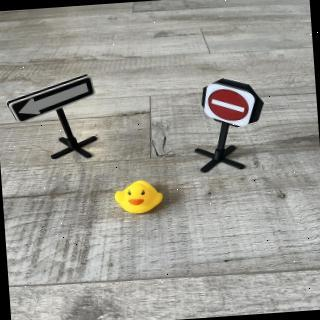duck_regular: (114, 180, 165, 217)
sign_noentry: (201, 80, 260, 131)
sign_oneway_left: (6, 75, 98, 127)
